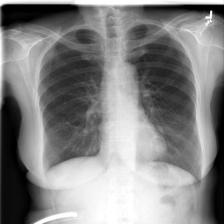normal: (34, 20, 204, 185)
